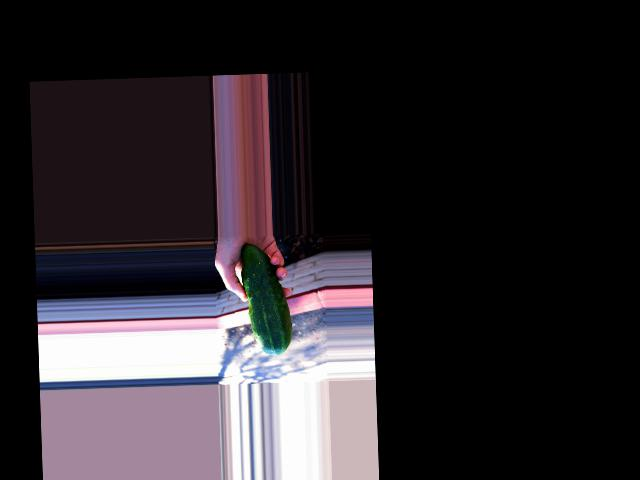cucumber: (241, 242, 293, 355)
